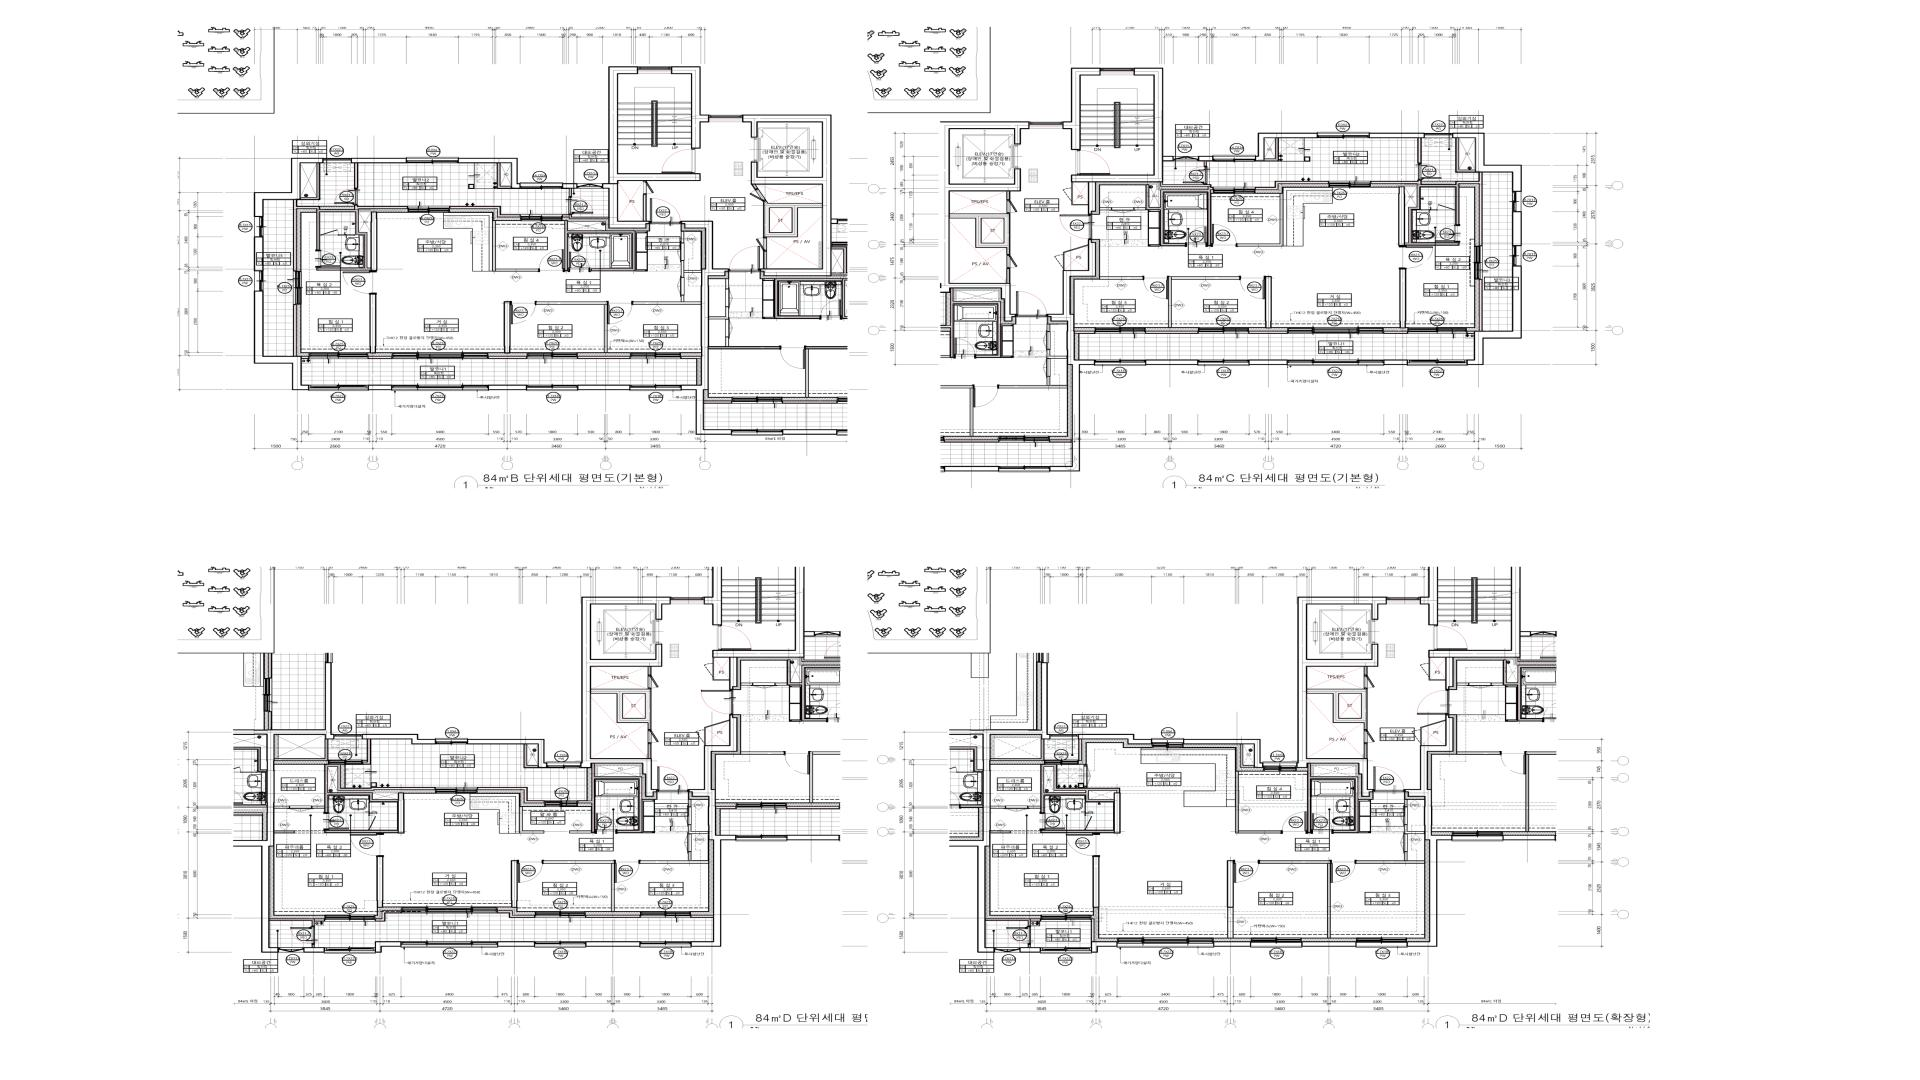door: (1076, 149, 1110, 175), (717, 625, 752, 650), (661, 149, 696, 173), (1373, 766, 1404, 793), (649, 198, 680, 224), (1435, 625, 1468, 650), (1059, 215, 1092, 240), (343, 270, 377, 294), (1399, 245, 1433, 269), (658, 766, 688, 793), (351, 833, 384, 857), (1067, 833, 1100, 857), (729, 247, 760, 272), (1233, 860, 1261, 884), (615, 860, 641, 884), (517, 860, 543, 884), (1331, 860, 1357, 884), (1143, 276, 1168, 299), (1240, 276, 1265, 299), (538, 249, 564, 272), (1282, 811, 1307, 833), (608, 302, 633, 324), (510, 302, 535, 324), (1212, 224, 1237, 247), (1039, 812, 1065, 831), (1435, 224, 1461, 243), (290, 926, 315, 944), (568, 196, 593, 215), (315, 249, 340, 268), (1183, 166, 1208, 185), (323, 812, 349, 829), (595, 814, 617, 833), (568, 252, 591, 272), (1185, 227, 1208, 247), (1006, 927, 1031, 944), (1312, 814, 1333, 833), (1418, 164, 1441, 181), (334, 189, 357, 204), (749, 189, 766, 204), (754, 237, 767, 252), (647, 674, 659, 688), (1364, 729, 1375, 744), (1364, 675, 1375, 688), (1006, 255, 1018, 268), (1006, 200, 1018, 214), (647, 729, 658, 744), (290, 806, 313, 812), (1006, 806, 1029, 812), (1112, 207, 1134, 214), (1084, 765, 1091, 787), (644, 182, 654, 194), (320, 229, 339, 236), (1437, 204, 1456, 211), (368, 815, 376, 829), (1084, 815, 1092, 829)
wall: (582, 596, 671, 796), (1298, 596, 1387, 796), (940, 121, 1030, 322), (977, 731, 1051, 953), (261, 731, 334, 953), (603, 66, 702, 228), (1071, 67, 1174, 214), (742, 115, 831, 276), (1428, 543, 1522, 690), (712, 543, 804, 690), (1404, 715, 1455, 947), (688, 715, 737, 947), (680, 222, 732, 435), (1370, 173, 1482, 247), (293, 200, 407, 272), (1047, 239, 1096, 365), (1466, 266, 1523, 365), (255, 291, 309, 390), (1261, 861, 1331, 938), (324, 765, 435, 812), (578, 764, 642, 833), (1146, 182, 1215, 247), (253, 158, 323, 218), (1453, 133, 1522, 193), (1040, 765, 1121, 812), (543, 861, 615, 913), (564, 220, 636, 272), (1307, 764, 1358, 833), (1168, 277, 1240, 327), (537, 302, 607, 352), (671, 66, 709, 149), (1063, 67, 1101, 150), (704, 543, 742, 625), (1420, 543, 1458, 625), (443, 212, 493, 272), (1236, 771, 1282, 833), (949, 214, 1010, 255), (467, 738, 547, 769), (1308, 688, 1367, 729), (1238, 194, 1283, 247), (1183, 738, 1263, 767), (493, 222, 538, 272), (764, 200, 822, 237), (458, 158, 521, 189), (1257, 133, 1319, 162), (274, 740, 328, 761), (990, 740, 1044, 761), (1042, 767, 1085, 793), (477, 787, 545, 803), (361, 733, 436, 745), (450, 206, 521, 218), (640, 852, 708, 864), (1357, 852, 1424, 864), (1077, 735, 1153, 745), (301, 164, 320, 200), (520, 806, 545, 833), (1255, 181, 1329, 190), (1456, 138, 1476, 173), (633, 295, 702, 305), (1420, 720, 1445, 745), (1226, 860, 1234, 939), (1338, 694, 1361, 719), (770, 208, 793, 232), (981, 219, 1004, 243), (642, 799, 655, 833), (1071, 182, 1088, 206), (1092, 857, 1100, 907), (376, 857, 384, 907), (1399, 269, 1406, 328), (369, 294, 376, 353), (371, 212, 377, 270), (253, 237, 264, 272), (680, 261, 702, 278), (269, 919, 314, 927), (1429, 658, 1445, 680), (1265, 276, 1271, 328), (524, 745, 538, 769), (1265, 138, 1279, 162), (504, 302, 510, 353), (497, 164, 510, 189), (375, 942, 402, 953), (375, 910, 402, 922), (1513, 211, 1522, 247), (1240, 745, 1254, 767), (397, 793, 405, 833), (510, 860, 517, 907), (1091, 942, 1117, 953), (1399, 187, 1404, 245), (497, 910, 535, 918), (351, 158, 407, 164), (1369, 133, 1425, 138), (986, 919, 1031, 926), (585, 942, 641, 947), (1302, 942, 1357, 947), (1040, 829, 1114, 833), (324, 829, 398, 833), (578, 385, 630, 390), (1146, 360, 1199, 365), (1114, 793, 1121, 833), (363, 740, 372, 765), (688, 824, 708, 835), (488, 385, 527, 390), (1249, 360, 1288, 365), (293, 305, 297, 356), (497, 942, 535, 947), (1213, 942, 1251, 947), (562, 215, 608, 219), (1404, 825, 1424, 835), (1019, 947, 1042, 953), (585, 915, 641, 918), (1145, 331, 1199, 334), (303, 947, 324, 953), (578, 356, 630, 359), (1480, 280, 1482, 331), (642, 195, 647, 220), (353, 164, 359, 189), (1383, 360, 1408, 365), (368, 385, 392, 390), (1100, 277, 1143, 280), (1077, 740, 1083, 761), (1249, 331, 1288, 334), (488, 356, 527, 359), (1418, 138, 1422, 164), (1091, 919, 1095, 942), (562, 183, 578, 189), (1199, 156, 1213, 161), (764, 251, 767, 269), (1383, 331, 1408, 334), (368, 356, 393, 359), (690, 915, 713, 918), (1006, 269, 1010, 284), (1364, 744, 1367, 758), (570, 831, 591, 833), (1075, 331, 1096, 334), (990, 831, 1011, 833), (274, 831, 294, 833), (680, 356, 700, 359), (680, 231, 684, 243), (1134, 207, 1146, 211), (1100, 207, 1112, 211), (274, 806, 290, 808), (990, 806, 1006, 808), (1006, 191, 1010, 200), (752, 185, 758, 190), (313, 806, 324, 808), (688, 799, 692, 807), (568, 189, 572, 196), (1364, 667, 1367, 675), (1404, 799, 1408, 807), (1029, 806, 1040, 808), (1031, 919, 1042, 922), (315, 919, 324, 922), (1466, 331, 1474, 334), (302, 356, 309, 359), (1147, 245, 1160, 247), (363, 760, 367, 762), (311, 944, 315, 947), (1027, 944, 1031, 947)
window: (1117, 938, 1213, 948), (392, 385, 488, 392), (402, 942, 497, 948), (402, 907, 497, 914), (393, 352, 488, 359), (1288, 360, 1383, 367), (1288, 327, 1383, 334), (1357, 938, 1407, 948), (1251, 938, 1302, 948), (309, 385, 368, 392), (1408, 360, 1468, 367), (1408, 327, 1466, 334), (310, 352, 367, 359), (641, 942, 691, 948), (535, 911, 585, 918), (535, 942, 585, 948), (1319, 132, 1369, 138), (407, 157, 458, 164), (630, 352, 680, 359), (630, 385, 680, 392), (527, 385, 578, 392), (1095, 360, 1145, 367), (1199, 360, 1249, 367), (1095, 327, 1145, 334), (1199, 327, 1249, 334), (1040, 947, 1091, 953), (641, 911, 690, 918), (326, 915, 375, 922), (1042, 915, 1091, 922), (1263, 762, 1298, 771), (293, 272, 302, 305), (1153, 738, 1183, 748), (435, 787, 477, 794), (1213, 156, 1255, 162), (1213, 187, 1255, 194), (1329, 181, 1370, 187), (407, 206, 448, 212), (521, 182, 562, 189), (521, 215, 562, 222), (324, 948, 375, 953), (527, 353, 578, 359), (1474, 247, 1482, 280), (1101, 67, 1134, 75), (1030, 121, 1063, 129), (638, 66, 671, 74), (709, 115, 742, 123), (547, 762, 582, 769), (742, 543, 775, 550), (545, 800, 578, 807), (671, 597, 704, 604), (1458, 543, 1491, 550), (1387, 597, 1420, 604), (255, 272, 264, 291), (328, 760, 363, 765), (1044, 760, 1079, 765), (1513, 247, 1522, 265), (1513, 193, 1522, 211), (255, 218, 264, 236), (436, 738, 467, 744), (323, 158, 351, 164), (335, 735, 361, 740), (1425, 133, 1452, 138), (1051, 735, 1077, 740), (578, 183, 603, 189), (1174, 156, 1199, 161), (996, 947, 1019, 952), (278, 948, 303, 952)
